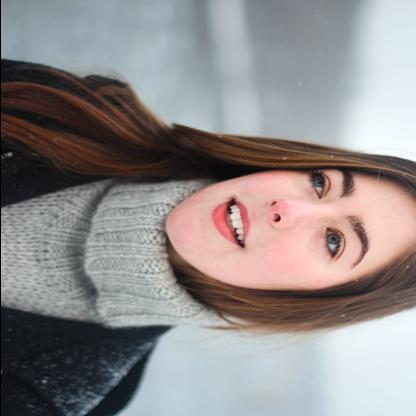Eye: (320, 224, 350, 262), (306, 164, 339, 198)
Mouth: (207, 196, 256, 251)
Nose: (266, 194, 328, 230)
